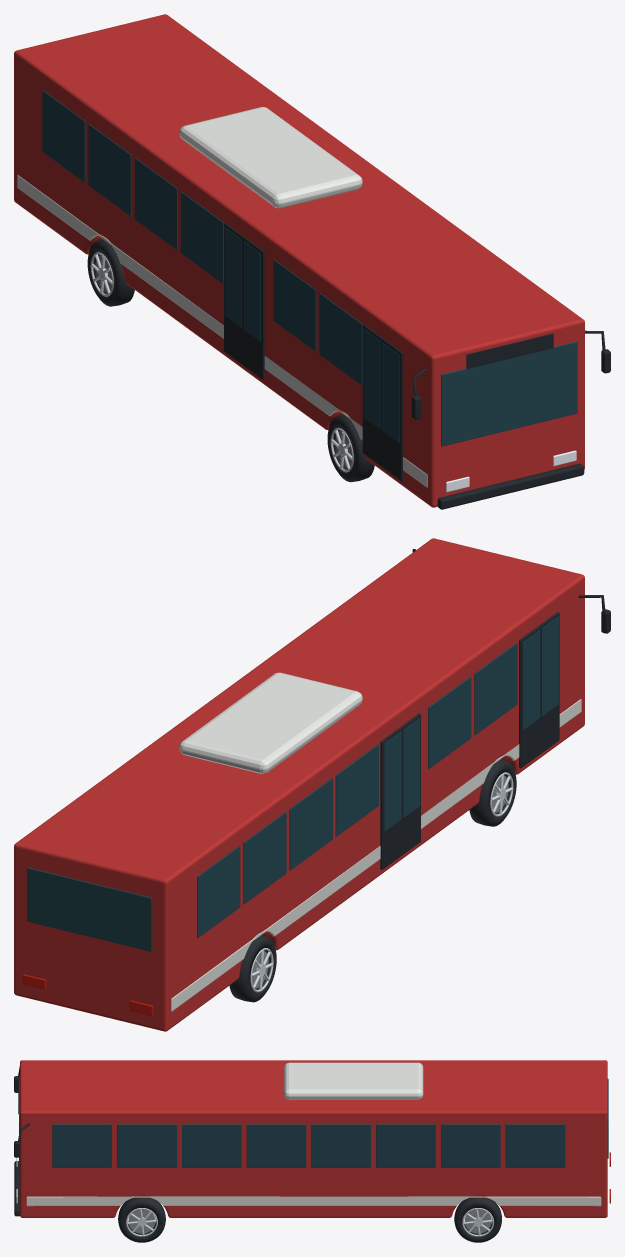
Rendered from strahov-city-bus.glb.
3 renders of one model, top to bottom at view 1: azimuth 30°, elevation 25°; view 2: azimuth 150°, elevation 25°; view 3: azimuth 270°, elevation 25°, orthographic. The views are drawn at different scales.
Parts seen in each view (by area): view 1: Body_Demo Prague red, Body_glass, Body_white, Body_Demo cream, Body_black, DoorMiddle_glass, DoorFront_glass, DoorFront_black, DoorMiddle_black, WheelRearRight_rubber, WheelFrontRight_rubber; view 2: Body_Demo Prague red, Body_glass, Body_white, Body_Demo cream, DoorMiddle_glass, DoorFront_glass, DoorMiddle_black, DoorFront_black, WheelFrontRight_rubber, WheelRearRight_rubber; view 3: Body_Demo Prague red, Body_glass, Body_white, Body_Demo cream, WheelRearLeft_rubber, WheelFrontLeft_rubber, Body_black, WheelFrontLeft_chrome, WheelRearLeft_chrome, WheelFrontLeft_steel, WheelRearLeft_steel.
Part boxes in pixels (x1=…): Body_Demo Prague red: x1=14, y1=14, x2=584, y2=507; Body_glass: x1=42, y1=90, x2=577, y2=446; Body_white: x1=179, y1=107, x2=362, y2=208; Body_Demo cream: x1=17, y1=175, x2=427, y2=487; Body_black: x1=411, y1=330, x2=610, y2=509; DoorMiddle_glass: x1=224, y1=227, x2=260, y2=341; DoorFront_glass: x1=363, y1=329, x2=399, y2=442; DoorFront_black: x1=362, y1=324, x2=403, y2=481; DoorMiddle_black: x1=224, y1=223, x2=264, y2=379; WheelRearRight_rubber: x1=87, y1=239, x2=134, y2=306; WheelFrontRight_rubber: x1=327, y1=414, x2=374, y2=482; Body_Demo Prague red: x1=14, y1=538, x2=584, y2=1031; Body_glass: x1=27, y1=643, x2=517, y2=951; Body_white: x1=179, y1=672, x2=362, y2=773; Body_Demo cream: x1=171, y1=699, x2=581, y2=1011; DoorMiddle_glass: x1=384, y1=718, x2=420, y2=831; DoorFront_glass: x1=523, y1=616, x2=558, y2=730; DoorMiddle_black: x1=380, y1=713, x2=420, y2=869; DoorFront_black: x1=519, y1=612, x2=559, y2=768; WheelFrontRight_rubber: x1=469, y1=759, x2=516, y2=826; WheelRearRight_rubber: x1=229, y1=935, x2=276, y2=1002; Body_Demo Prague red: x1=20, y1=1060, x2=607, y2=1217; Body_glass: x1=19, y1=1076, x2=608, y2=1172; Body_white: x1=284, y1=1062, x2=423, y2=1099; Body_Demo cream: x1=26, y1=1196, x2=601, y2=1206; WheelRearLeft_rubber: x1=454, y1=1197, x2=501, y2=1242; WheelFrontLeft_rubber: x1=118, y1=1197, x2=165, y2=1242; Body_black: x1=14, y1=1066, x2=30, y2=1216; WheelFrontLeft_chrome: x1=126, y1=1208, x2=157, y2=1236; WheelRearLeft_chrome: x1=462, y1=1208, x2=494, y2=1236; WheelFrontLeft_steel: x1=128, y1=1209, x2=155, y2=1233; WheelRearLeft_steel: x1=464, y1=1209, x2=491, y2=1233.
Bounding box in the file's own units: 3.2 × 3.11 × 11.98.
